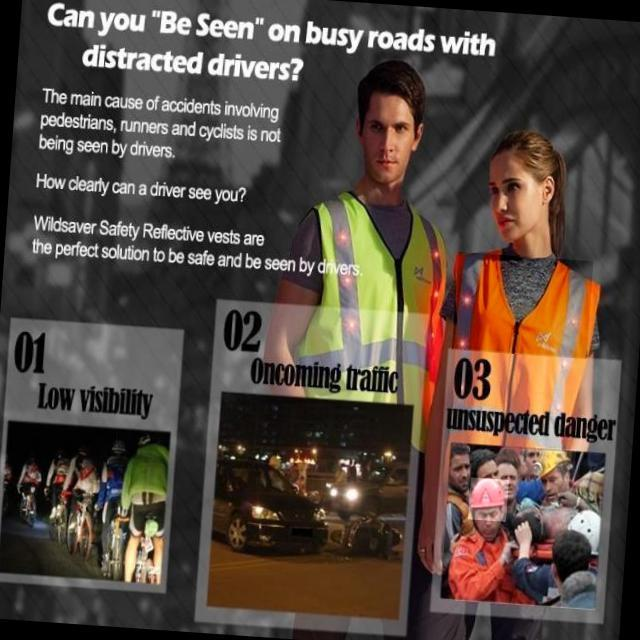Helmet: (468, 477, 509, 522), (534, 446, 576, 481)
Person: (288, 44, 453, 394), (458, 119, 615, 375), (451, 470, 534, 605)
Safety Vest: (296, 190, 444, 404), (452, 252, 594, 359)
no-helmet: (488, 123, 574, 182), (358, 59, 424, 107)
